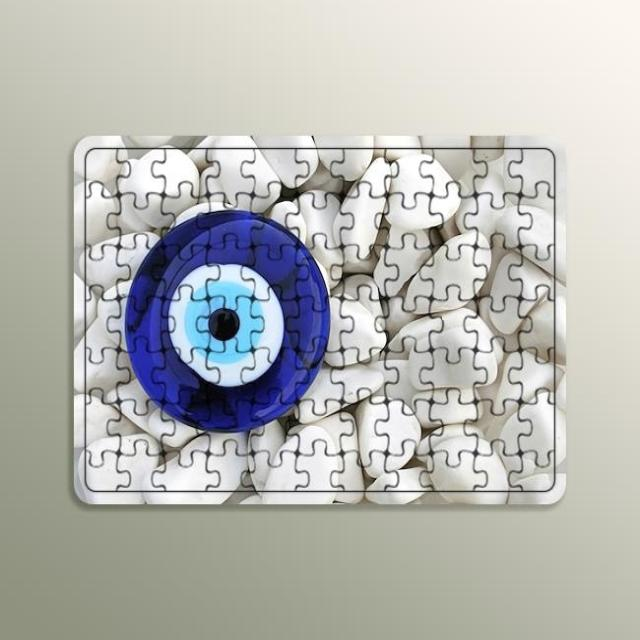Nazar-Boncugu: (125, 211, 330, 433)
